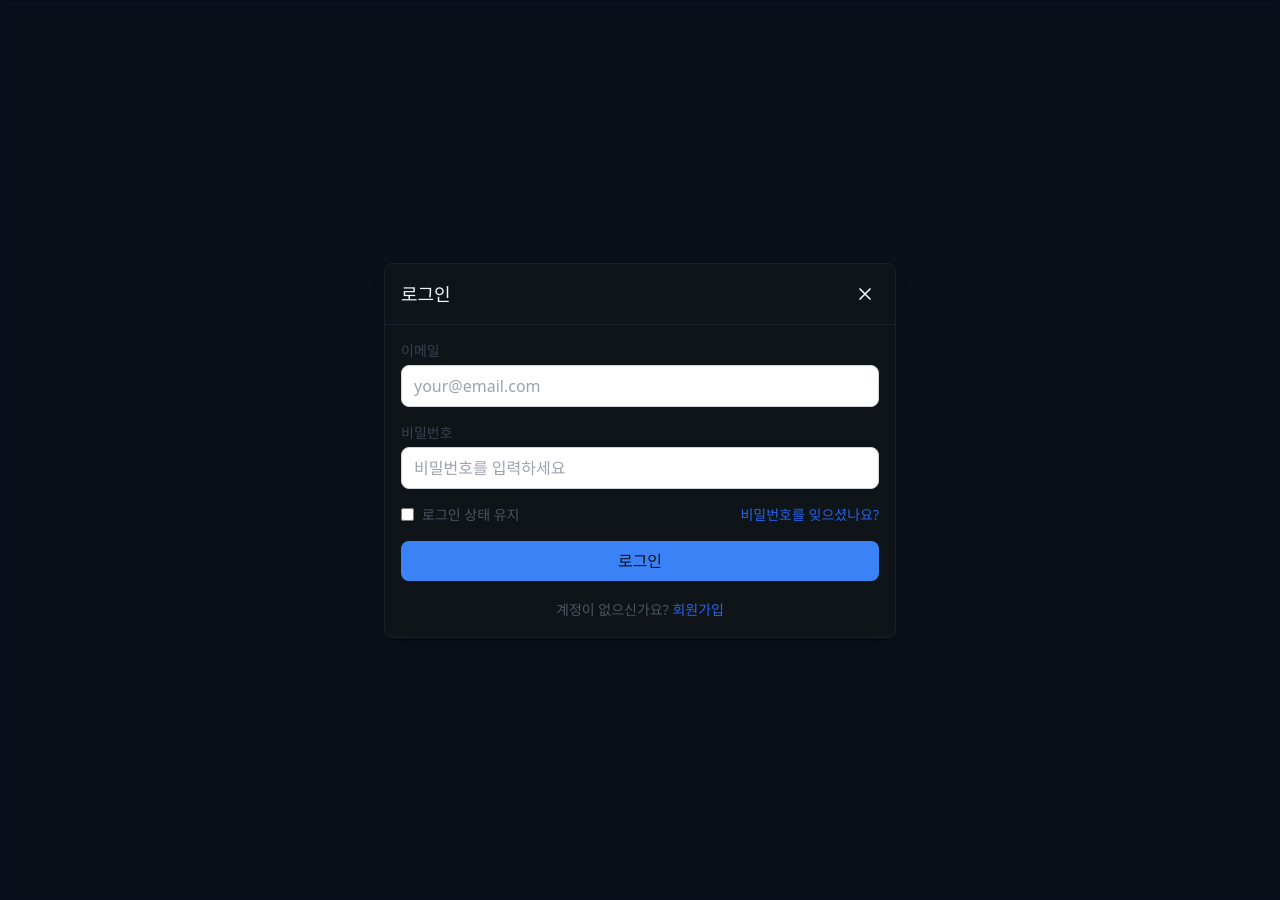
Test: LoginForm › Form Submission › should show loading state during submission
This screenshot has width=1280, height=900.
// Fill form
Type "test@example.com" into the field labelled "이메일".
click(640, 386); type("test@example.com")  # box [401,364,879,406]
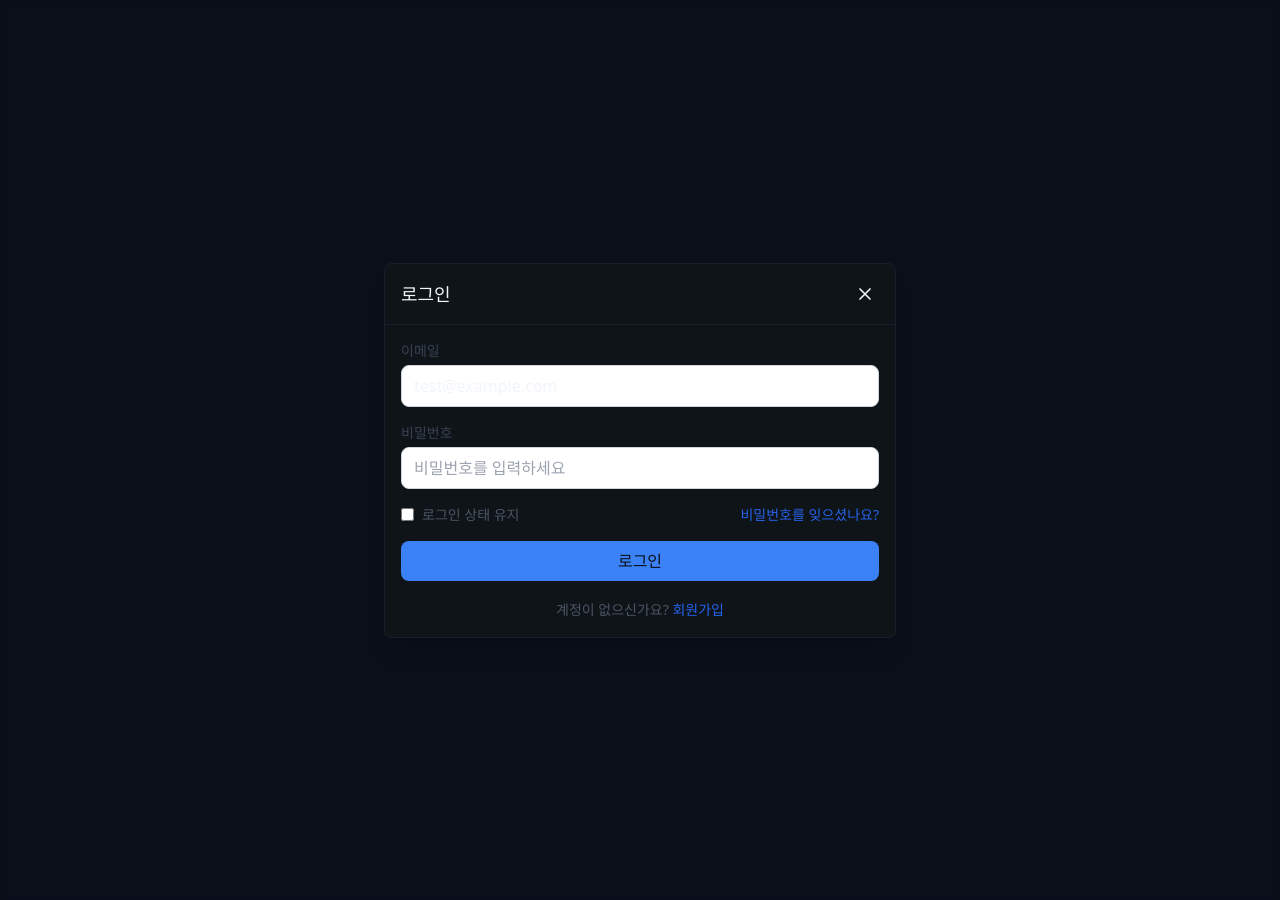
Type "password123" into the password field labelled "비밀번호".
click(640, 468); type("password123")  # box [401,446,879,488]
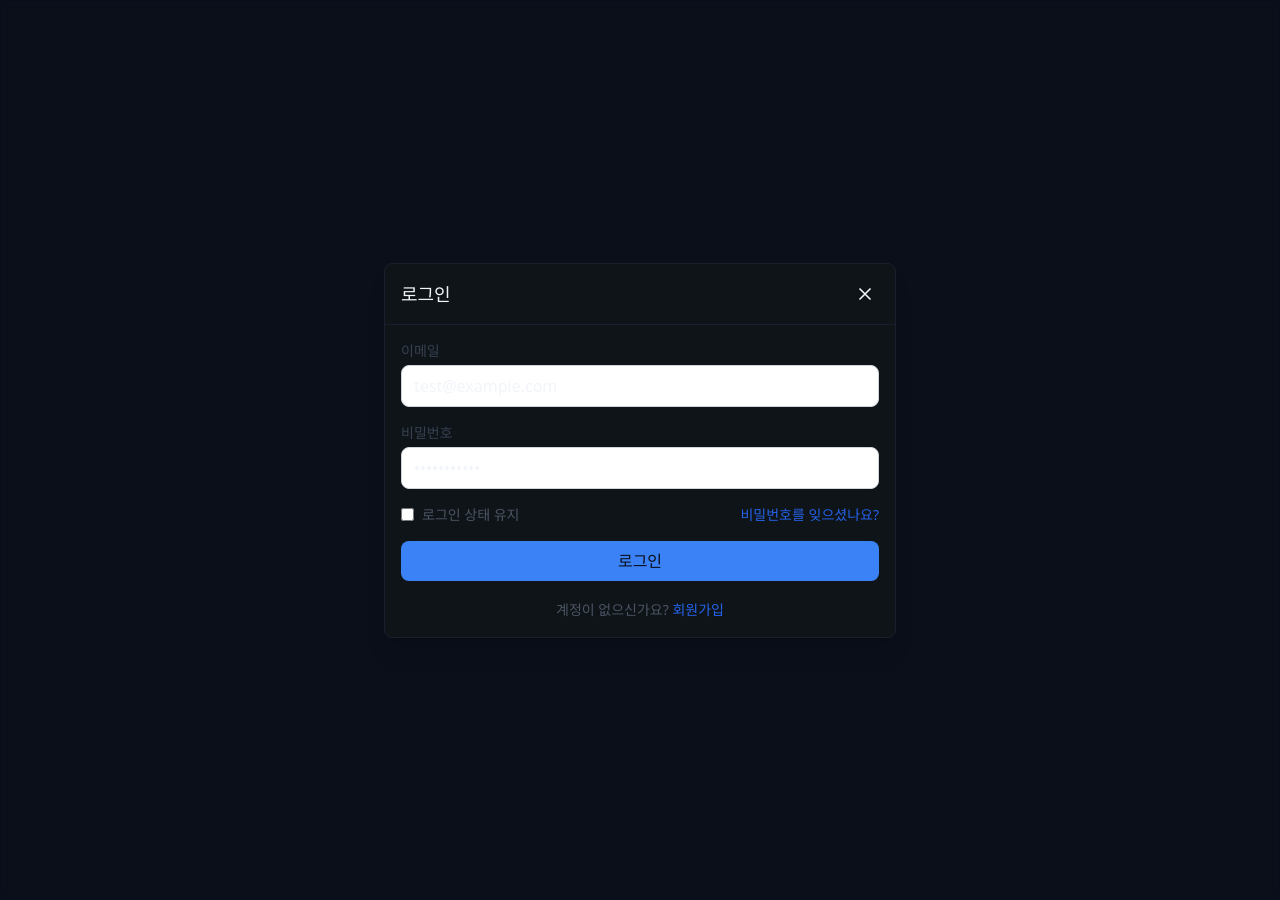
// Submit form
Click the button "로그인".
click(640, 560)  # box [401,540,879,580]
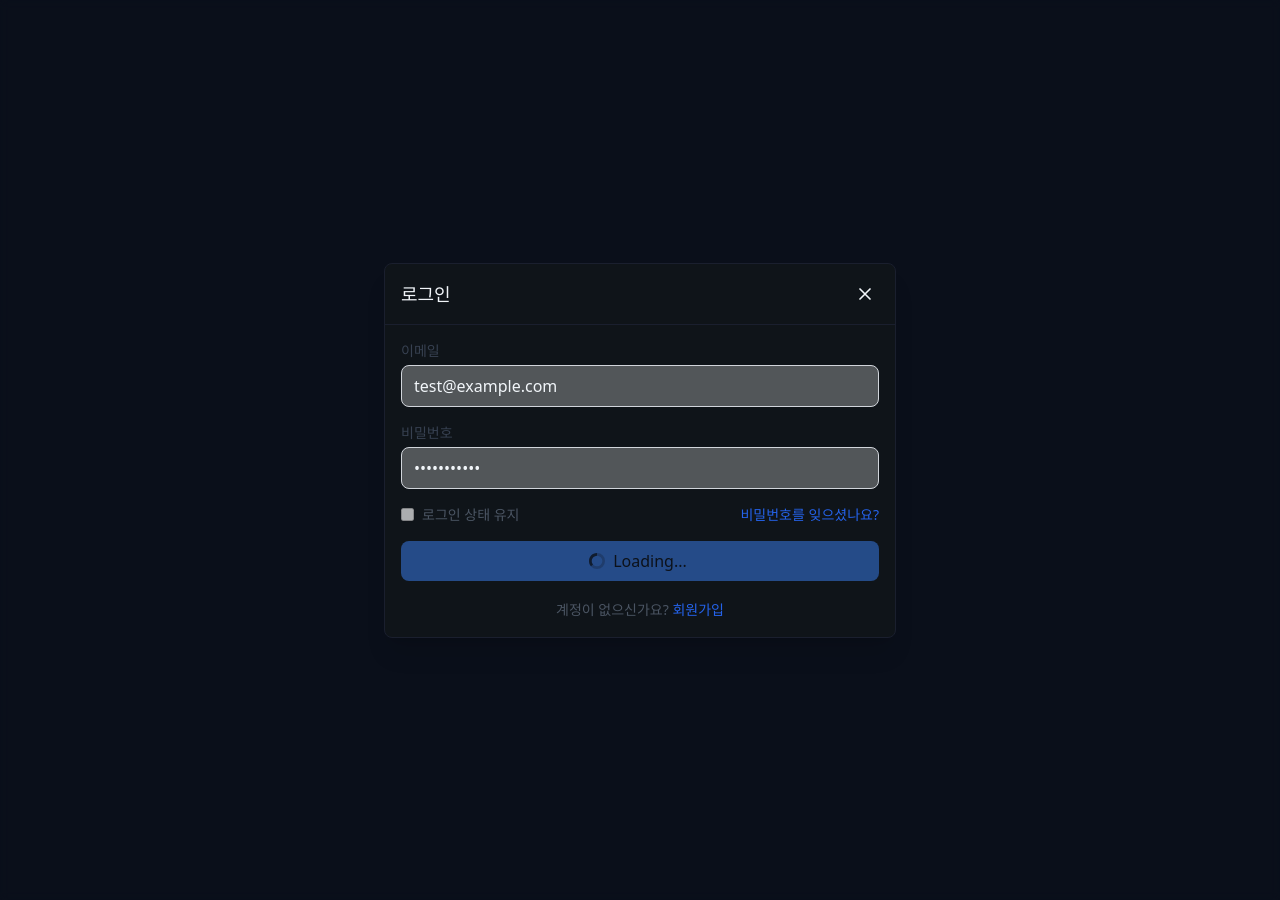
Expected: the field labelled "이메일" is disabled, [401,364,879,406]
Expected: the password field labelled "비밀번호" is disabled, [401,446,879,488]
Expected: the button named "로그인" is disabled, [401,540,879,580]
